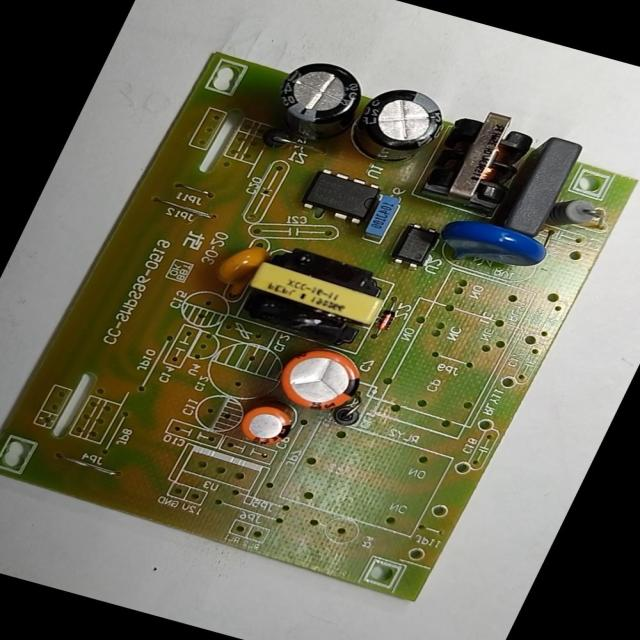Cap1: (267, 340, 373, 419)
Cap2: (233, 401, 299, 452)
Cap3: (340, 79, 455, 174)
Cap4: (260, 53, 374, 144)
MOSFET: (297, 166, 385, 228)
Mov: (427, 211, 553, 284)
Resistor: (543, 192, 600, 236)
Transformer: (234, 240, 396, 350), (421, 102, 545, 213)
